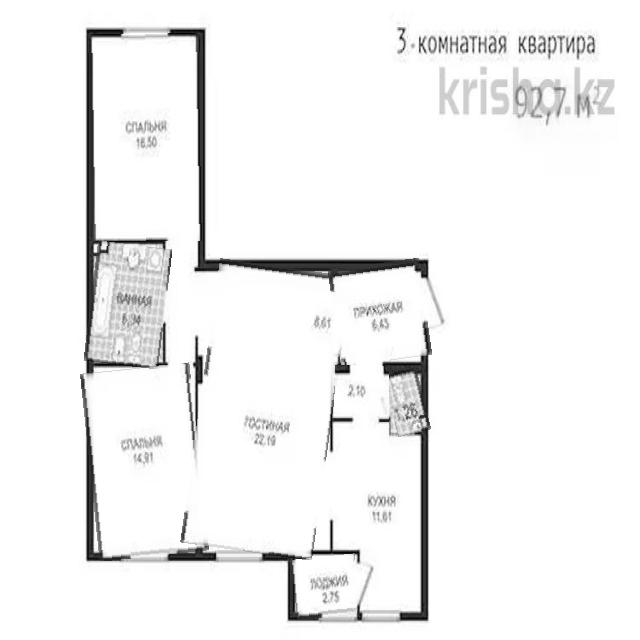balcony: (292, 554, 360, 619)
bathroom: (86, 242, 169, 367), (386, 367, 428, 435)
hallway: (331, 261, 429, 365), (334, 365, 389, 422)
kitchen: (357, 435, 428, 617)
living_room: (190, 262, 342, 557), (89, 34, 202, 242), (85, 365, 204, 558)
